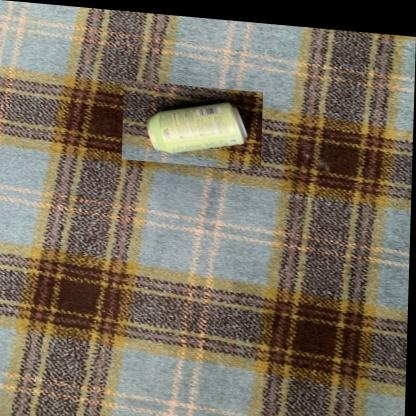trash: (147, 103, 246, 152)
